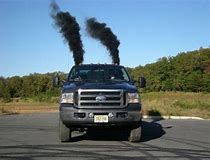smoke: (46, 1, 85, 65), (86, 16, 123, 65)
